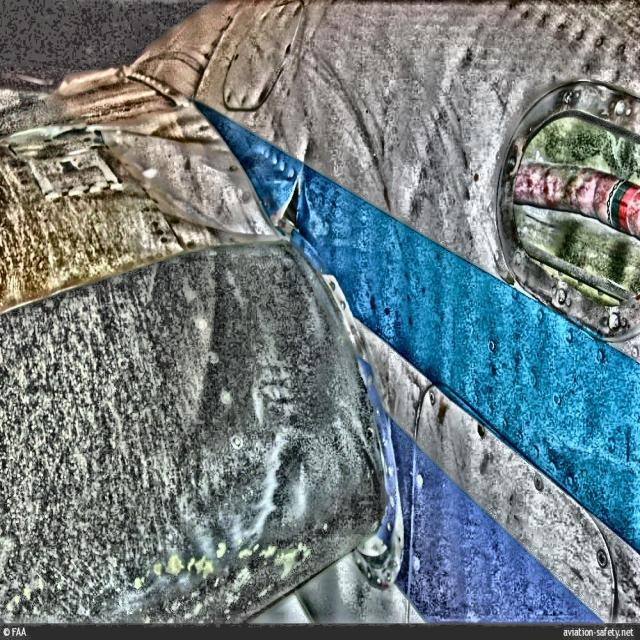crack: (270, 166, 307, 234)
